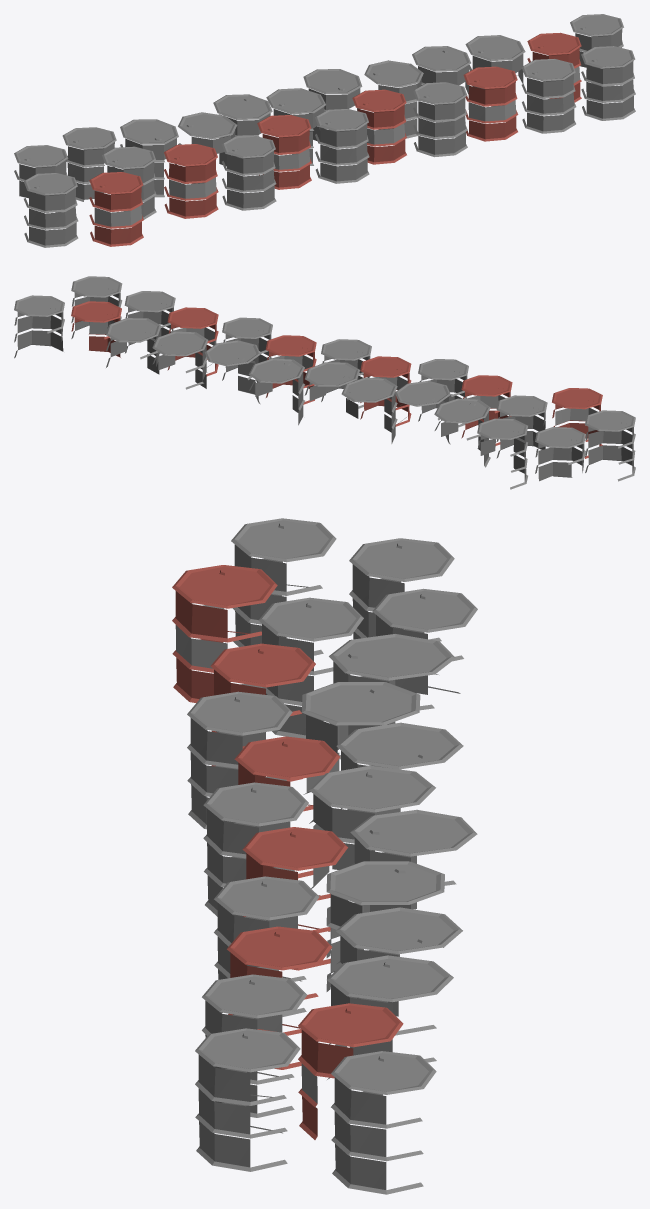
The model's file is Ban order 3.fbx.
3 renders of one model, top to bottom at view 1: azimuth 30°, elevation 25°; view 2: azimuth 150°, elevation 25°; view 3: azimuth 270°, elevation 25°, orthographic. The views are drawn at different scales.
Visible parts, largest first — view 1: Ban order 3; view 2: Ban order 3; view 3: Ban order 3.
Part boxes in pixels (<box>): Ban order 3: <box>14,14,635,247</box>; Ban order 3: <box>14,276,635,489</box>; Ban order 3: <box>172,518,477,1194</box>.
Bounding box in the file's own units: 826 × 68.28 × 185.
